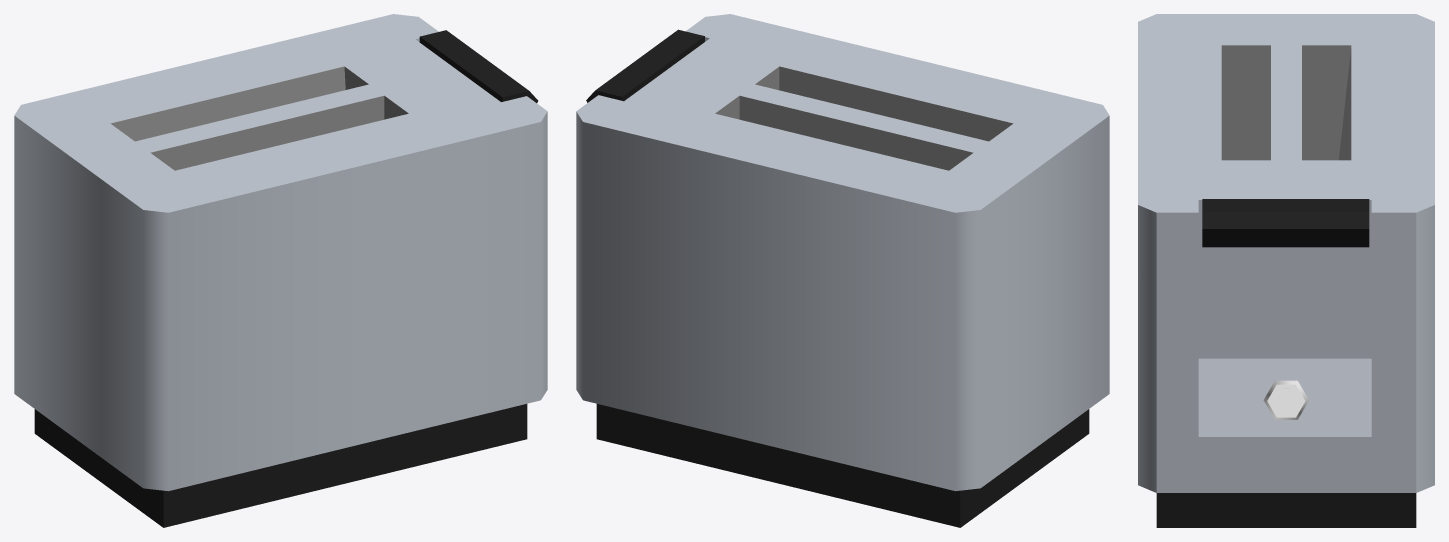
The model's file is toaster.dae.
3 views of the same model, side by side, from view 1: azimuth 30°, elevation 25°; view 2: azimuth 150°, elevation 25°; view 3: azimuth 270°, elevation 25° (orthographic).
Visible parts, largest first — view 1: SketchUp (×4), group_0; view 2: SketchUp (×4), group_0; view 3: SketchUp (×5), group_0.
Boxes of the visible parts, box(x1,y1,x2,y2) form: SketchUp (×4): box(14, 14, 547, 527); group_0: box(419, 30, 538, 102); SketchUp (×4): box(576, 14, 1109, 527); group_0: box(586, 29, 704, 102); SketchUp (×5): box(1138, 14, 1434, 527); group_0: box(1202, 199, 1369, 247).
Size of the model in its own units: 9.83 by 6 by 7.31.
5 materials, 5 textured.
